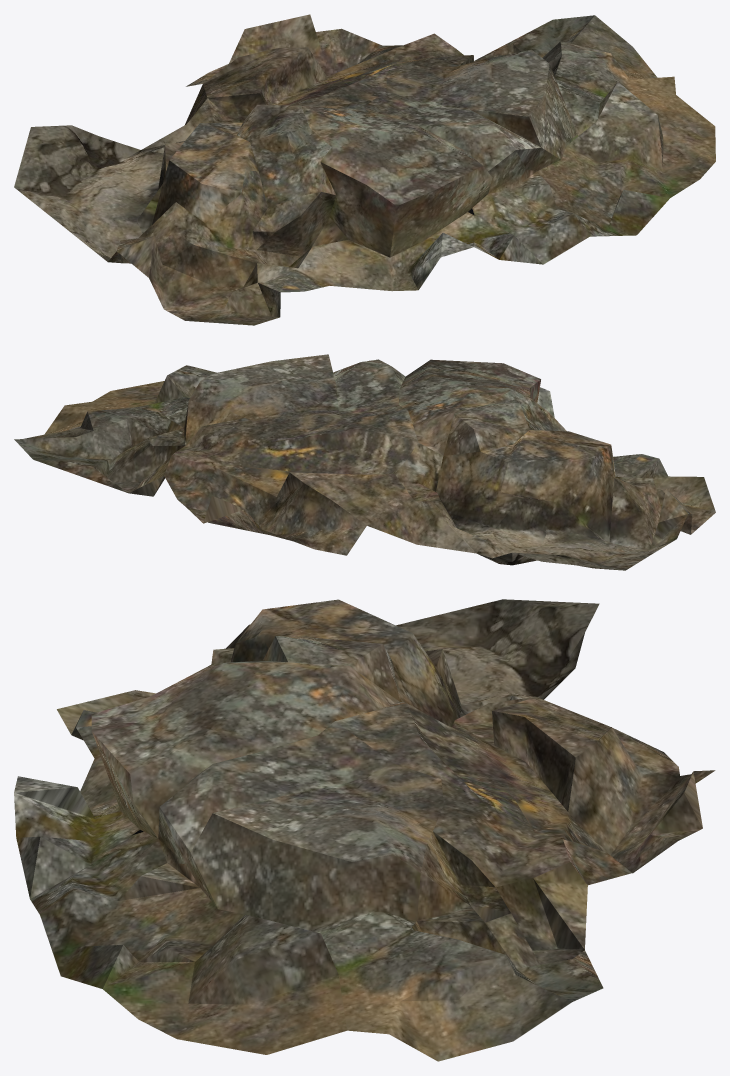
Rendered from rock_granite_a.glb.
The picture shows the model from 3 angles, top to bottom: view 1: azimuth 30°, elevation 25°; view 2: azimuth 150°, elevation 25°; view 3: azimuth 270°, elevation 25°; orthographic projection. The views are drawn at different scales.
Visible parts, largest first — view 1: Rock_Granite_rcCwC_LOD4; view 2: Rock_Granite_rcCwC_LOD4; view 3: Rock_Granite_rcCwC_LOD4.
Boxes of the visible parts, x1,y1,x2,y2 form: Rock_Granite_rcCwC_LOD4: [14, 14, 715, 325]; Rock_Granite_rcCwC_LOD4: [14, 354, 715, 570]; Rock_Granite_rcCwC_LOD4: [14, 599, 715, 1061].
Bounding box in the file's own units: 2.87 × 0.5265 × 2.02.
1 material, 1 textured.
